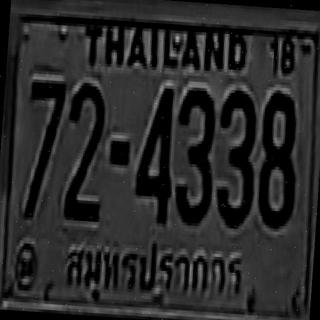N02: (61, 79, 106, 219)
N03: (211, 86, 258, 226), (171, 85, 218, 222)
N04: (132, 84, 175, 221)
N07: (21, 76, 66, 219)
N08: (255, 90, 300, 226)
P57: (57, 228, 249, 312)
